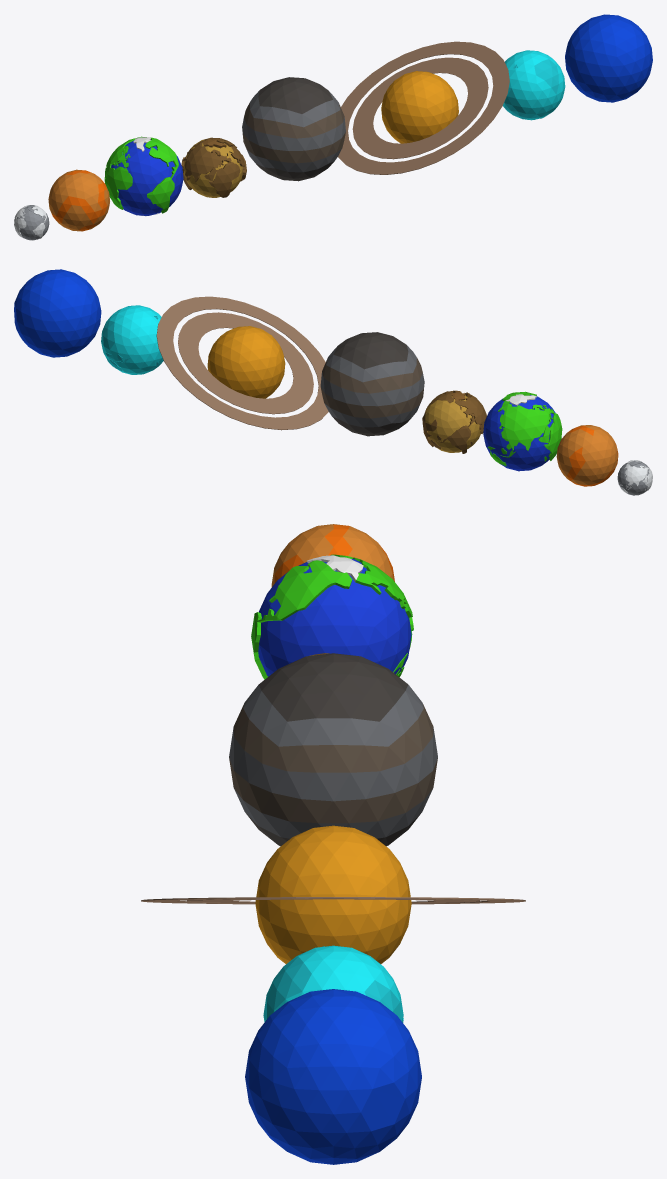
The model's file is Planets.fbx.
The picture shows the model from 3 angles, top to bottom: view 1: azimuth 30°, elevation 25°; view 2: azimuth 150°, elevation 25°; view 3: azimuth 270°, elevation 25°; orthographic projection. The views are drawn at different scales.
Visible parts, largest first — view 1: Saturn, Jupiter, Neptune, Earth, Uran, Mars, Venus, Mercury; view 2: Saturn, Jupiter, Neptune, Earth, Uran, Mars, Venus, Mercury; view 3: Jupiter, Neptune, Saturn, Earth, Uran, Venus.
Part boxes in pixels (left/top/right/bottom): Saturn: left=338, top=41, right=509, bottom=174; Jupiter: left=242, top=77, right=345, bottom=181; Neptune: left=565, top=14, right=652, bottom=102; Earth: left=104, top=136, right=183, bottom=216; Uran: left=503, top=50, right=565, bottom=120; Mars: left=181, top=137, right=246, bottom=197; Venus: left=48, top=169, right=109, bottom=231; Mercury: left=14, top=205, right=49, bottom=240; Saturn: left=156, top=296, right=328, bottom=430; Jupiter: left=320, top=332, right=424, bottom=436; Neptune: left=14, top=269, right=101, bottom=357; Earth: left=483, top=391, right=562, bottom=471; Uran: left=101, top=305, right=163, bottom=374; Mars: left=422, top=390, right=486, bottom=453; Venus: left=556, top=425, right=618, bottom=486; Mercury: left=617, top=460, right=652, bottom=495; Jupiter: left=229, top=653, right=437, bottom=846; Neptune: left=245, top=989, right=421, bottom=1164; Saturn: left=141, top=825, right=525, bottom=963; Earth: left=251, top=554, right=413, bottom=679; Uran: left=263, top=945, right=403, bottom=1022; Venus: left=271, top=524, right=394, bottom=587.
Size of the model in its own units: 55426 by 8048 by 14647.
